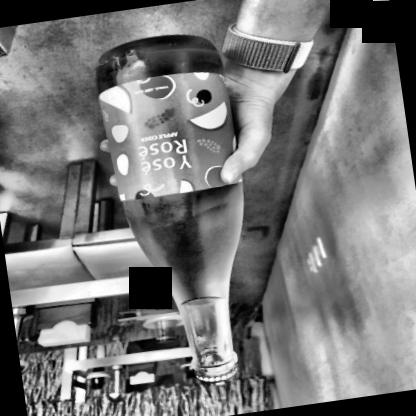yoserose: (100, 81, 223, 192)
